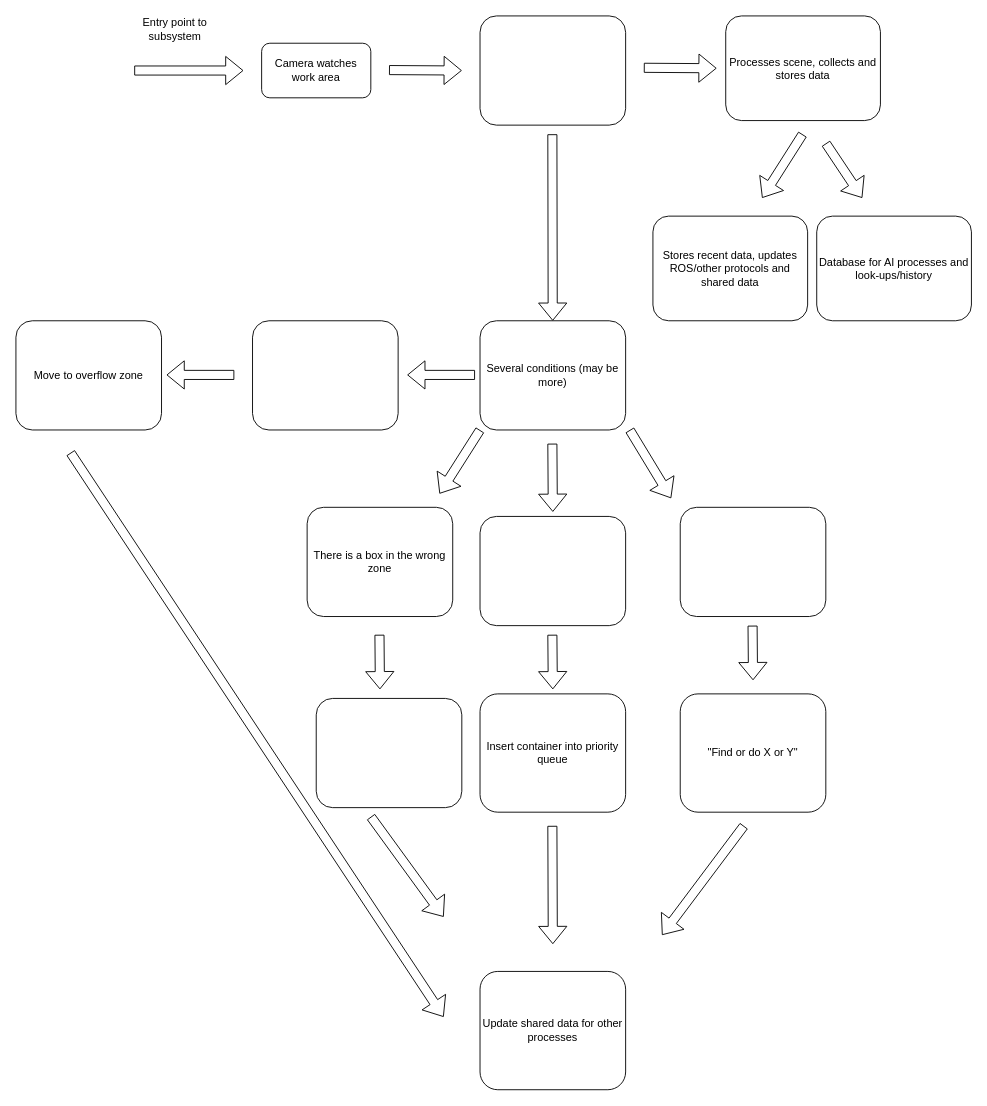
This 987x1106 diagram has some shape labels left out. The box of each missing label's shape, as (x1, y1, x2, y2) in pixels:
Flag container to be moved: (315, 698, 462, 808)
Given a command: (679, 506, 826, 617)
There is a new box inserted into loading zone: (479, 516, 626, 626)
There is no room in a zone: (252, 320, 398, 430)
Tracks containers and open spaces on Infinity Grid: (479, 15, 626, 125)
